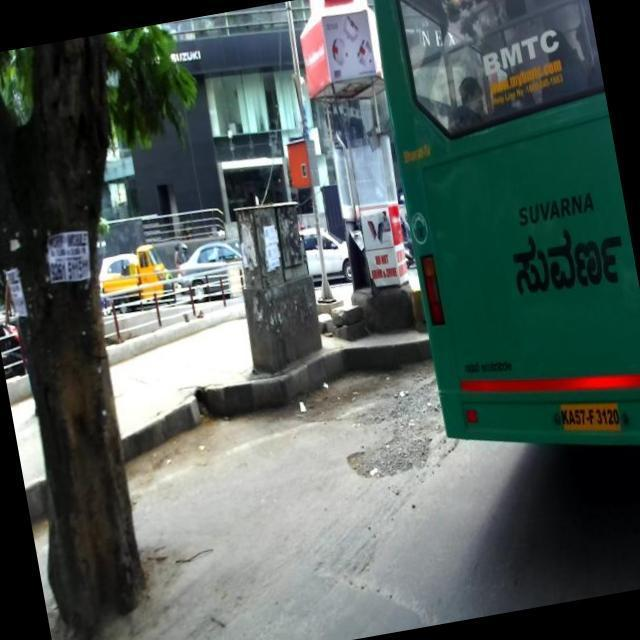Pothole: (325, 370, 441, 473)
